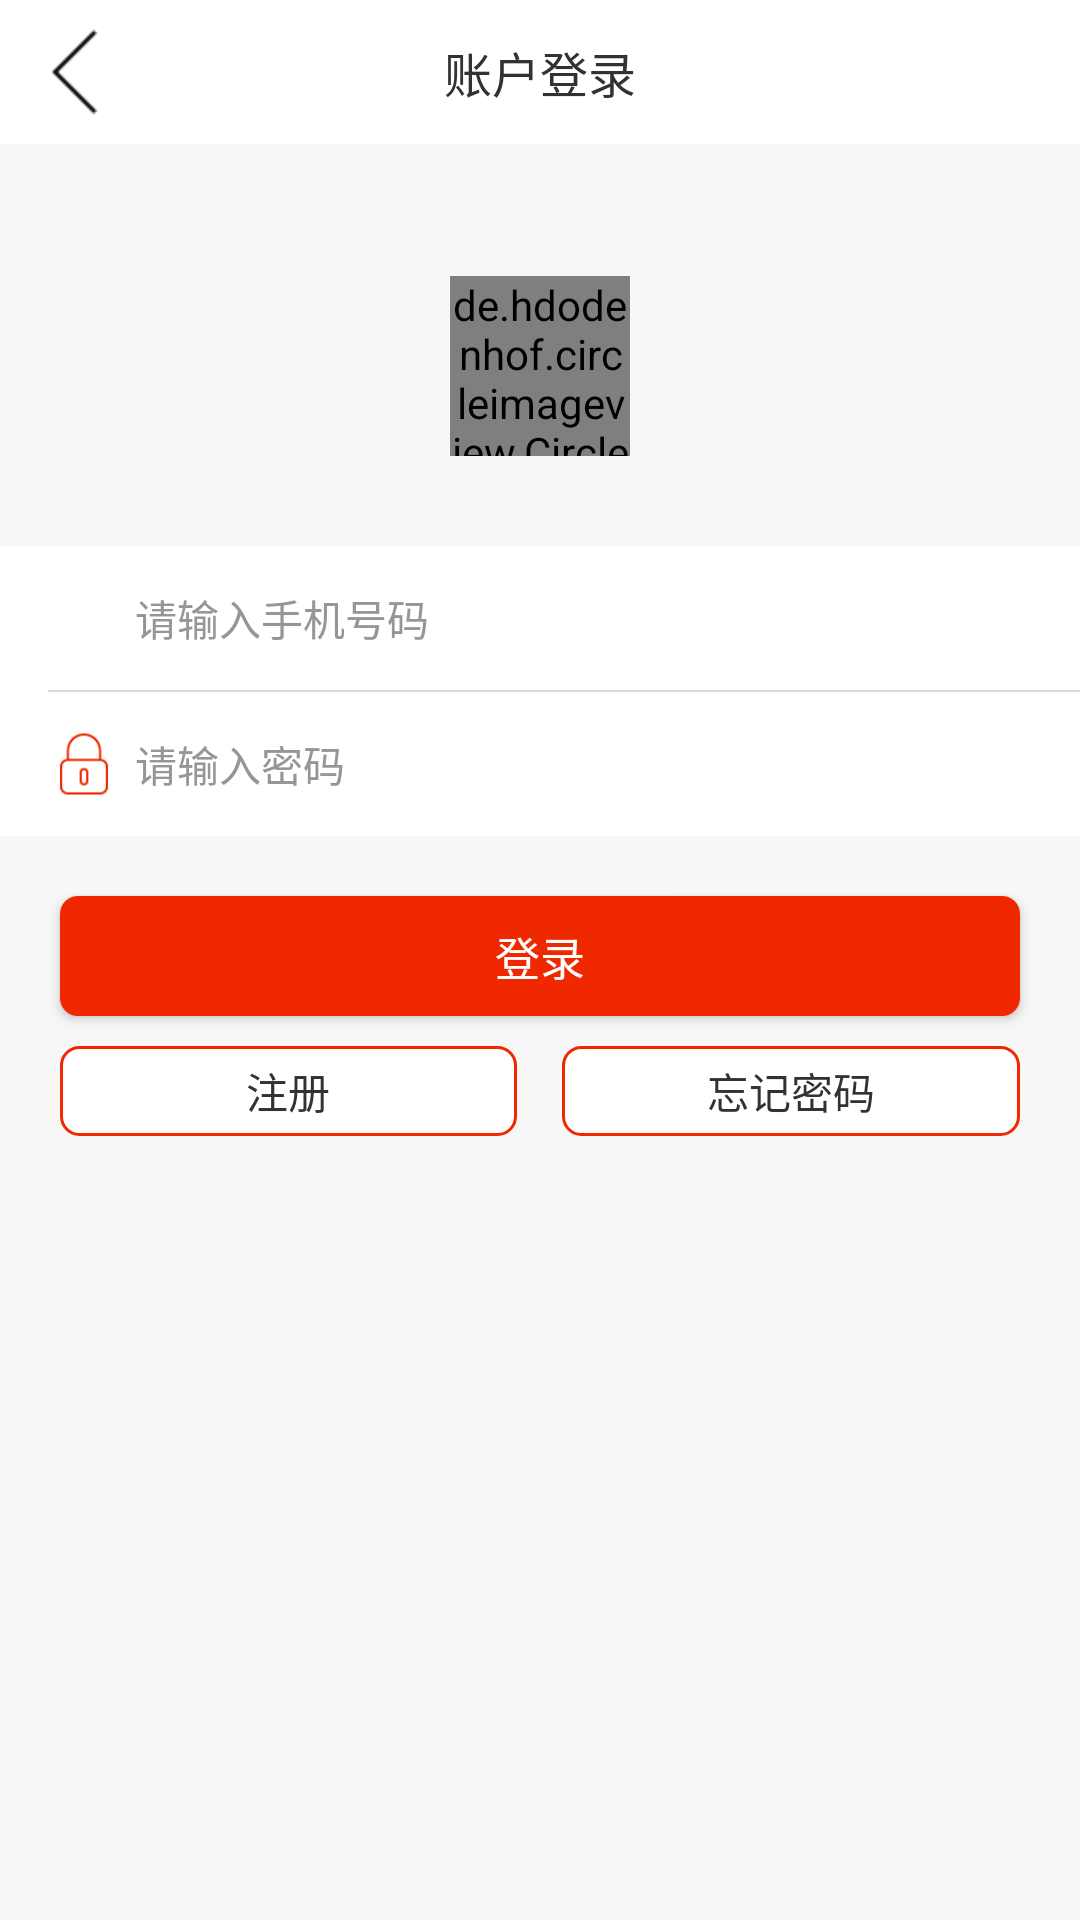

Icons on this 1080 × 1920 Android screen, each with its box as (x1, y1, x2, y2):
left back: (52, 29, 98, 115)
